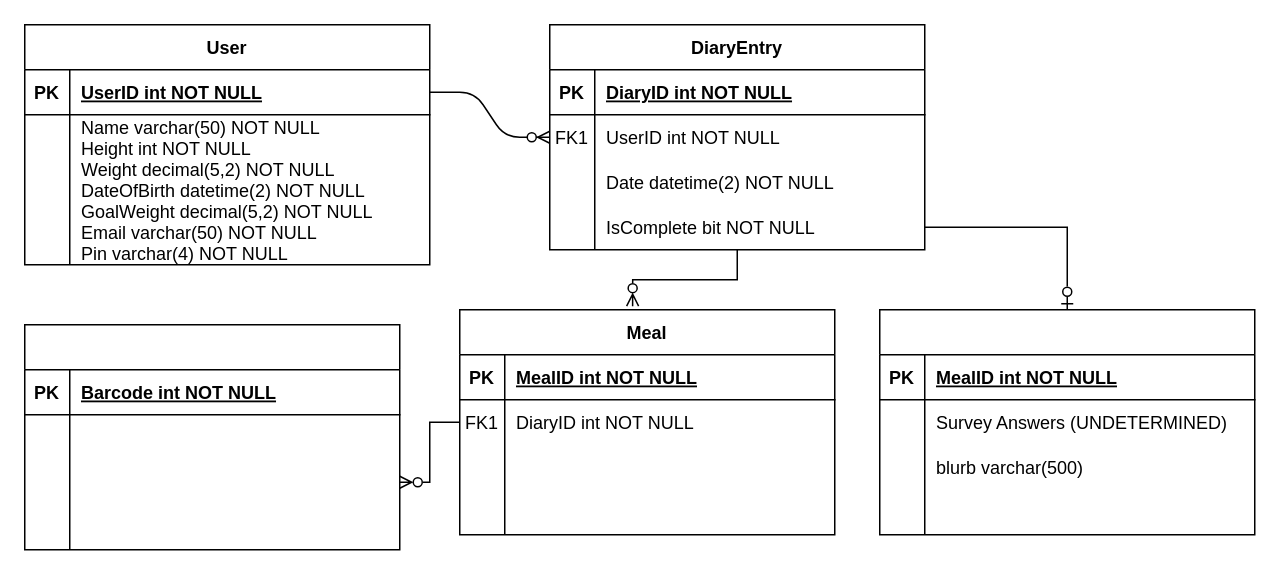
The diagram is 1280 pixels wide and 575 high, and some of its shapes have lost their labels. Each missing label, with the box of its shape:
Feeling: (878, 308, 1255, 535)
Food: (23, 323, 400, 550)
